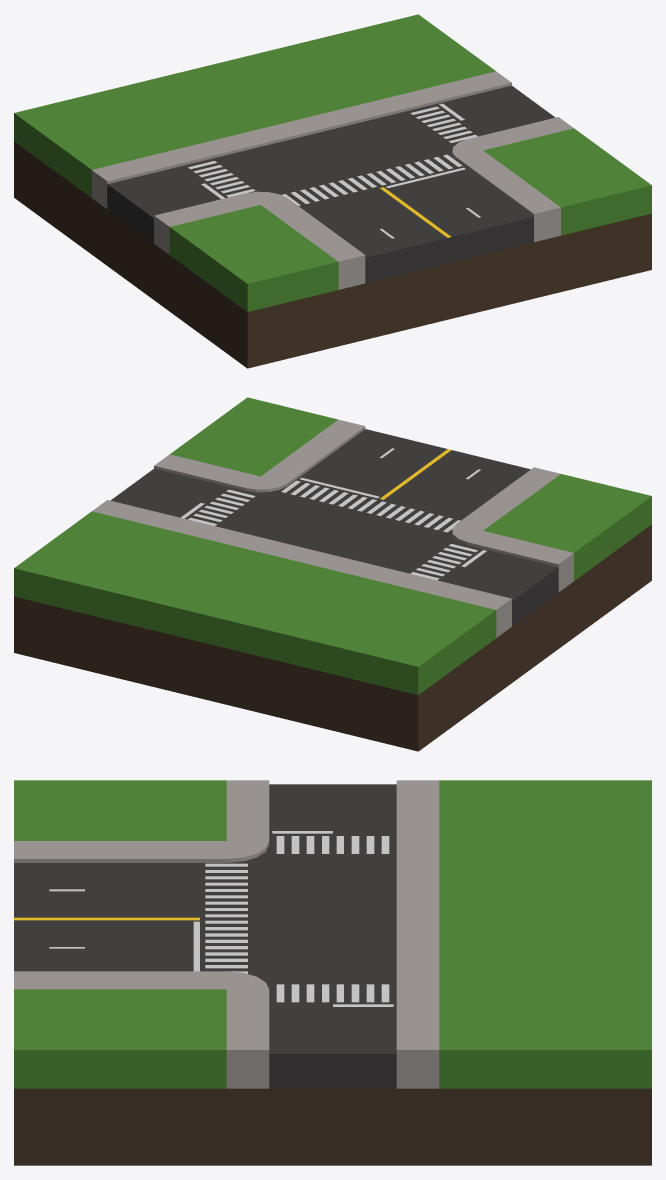
Rendered from tile-mainroad-road-intersection-t.glb.
The picture shows the model from 3 angles, top to bottom: view 1: azimuth 30°, elevation 25°; view 2: azimuth 150°, elevation 25°; view 3: azimuth 270°, elevation 25°; orthographic projection. The views are drawn at different scales.
Visible parts, largest first — view 1: tile-mainroad-road-intersection-t; view 2: tile-mainroad-road-intersection-t; view 3: tile-mainroad-road-intersection-t.
Boxes of the visible parts, x1,y1,x2,y2 form: tile-mainroad-road-intersection-t: [14, 14, 651, 368]; tile-mainroad-road-intersection-t: [14, 397, 651, 751]; tile-mainroad-road-intersection-t: [14, 780, 651, 1165].
Size of the model in its own units: 30 by 6 by 30.
Materials: 1 (1 with a texture image).
